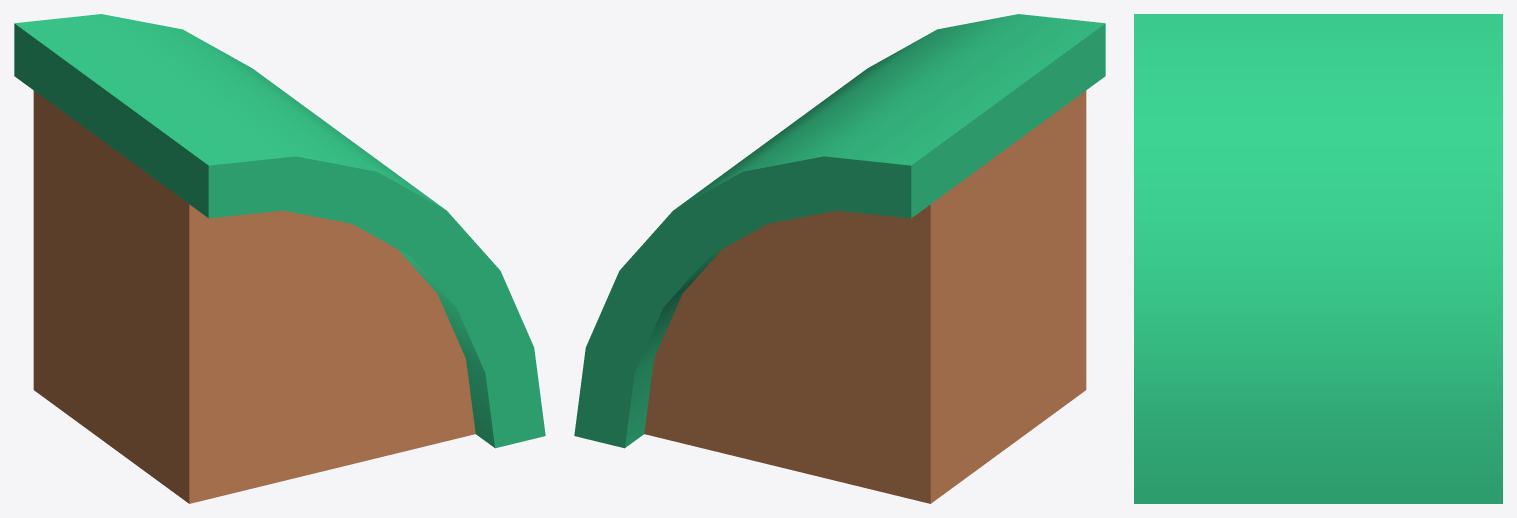
File: blockCurveHalf.glb
3 renders of one model, left to right at view 1: azimuth 30°, elevation 25°; view 2: azimuth 150°, elevation 25°; view 3: azimuth 270°, elevation 25°, orthographic. The views are drawn at different scales.
Visible parts, largest first — view 1: blockCurveHalf; view 2: blockCurveHalf; view 3: blockCurveHalf.
Part boxes in pixels (left/top/right/bottom): blockCurveHalf: left=14, top=14, right=545, bottom=503; blockCurveHalf: left=574, top=14, right=1105, bottom=503; blockCurveHalf: left=1134, top=14, right=1502, bottom=503.
Bounding box in the file's own units: 1 × 1 × 1.
